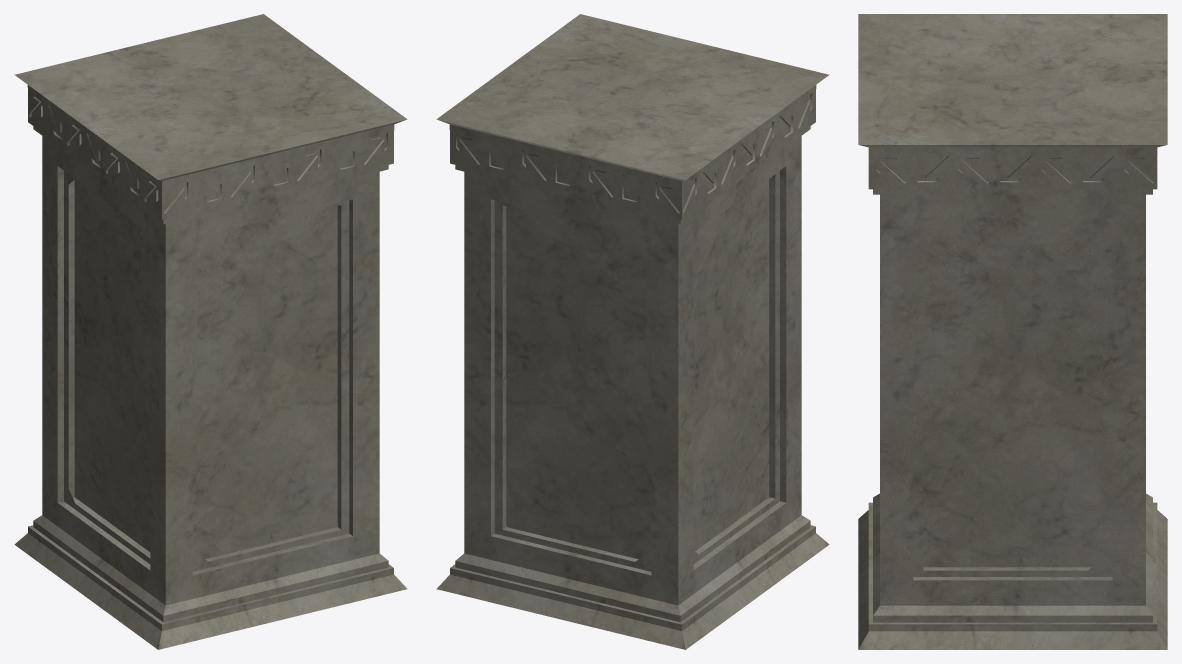
The model's file is Pedestal2.fbx.
3 renders of one model, left to right at view 1: azimuth 30°, elevation 25°; view 2: azimuth 150°, elevation 25°; view 3: azimuth 270°, elevation 25°, orthographic. The views are drawn at different scales.
Visible parts, largest first — view 1: Cube; view 2: Cube; view 3: Cube.
Boxes of the visible parts, x1,y1,x2,y2 form: Cube: (14,14,407,649); Cube: (436,14,829,649); Cube: (858,14,1167,649).
Bounding box in the file's own units: 200 × 360 × 200.
